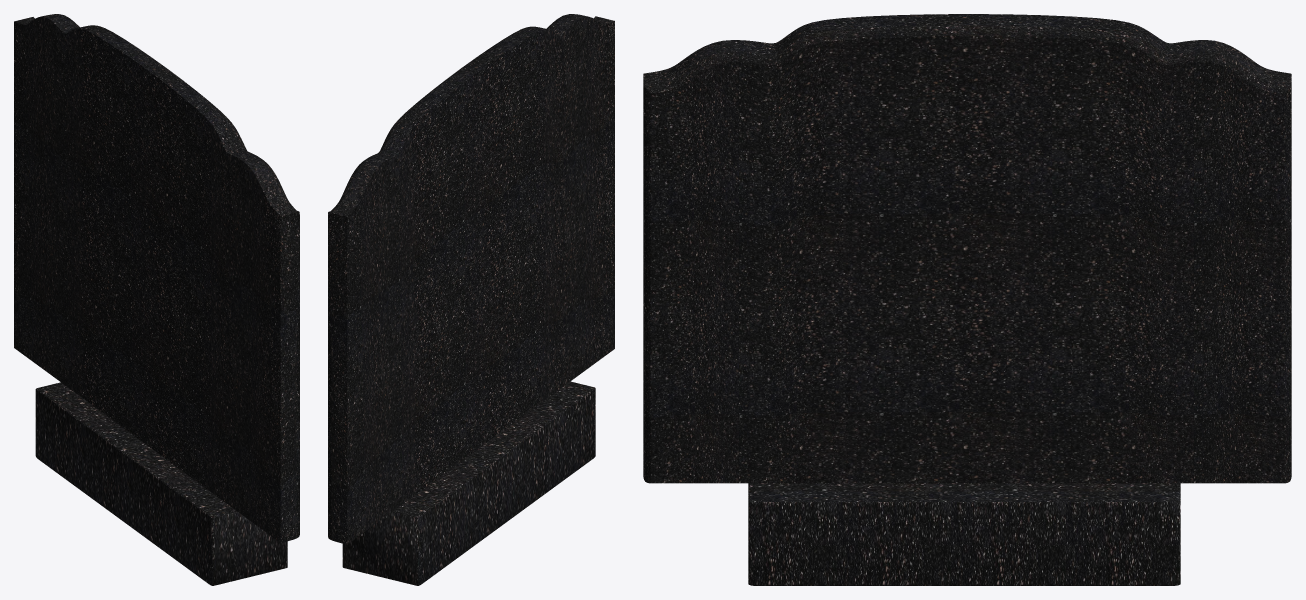
Rendered from Семейный 1 [granite_2_standard] (70).glb.
3 views of the same model, side by side, from view 1: azimuth 30°, elevation 25°; view 2: azimuth 150°, elevation 25°; view 3: azimuth 270°, elevation 25° (orthographic). The views are drawn at different scales.
Visible parts, largest first — view 1: Cube.014, Куб.001; view 2: Cube.014, Куб.001; view 3: Cube.014, Куб.001.
Boxes of the visible parts, x1,y1,x2,y2 form: Cube.014: (14,14,299,542); Куб.001: (35,382,287,585); Cube.014: (328,14,614,544); Куб.001: (342,381,595,585); Cube.014: (643,14,1291,483); Куб.001: (748,483,1180,585).
Size of the model in its own units: 0.15 by 0.83 by 0.9.
Materials: 2 (2 with a texture image).
